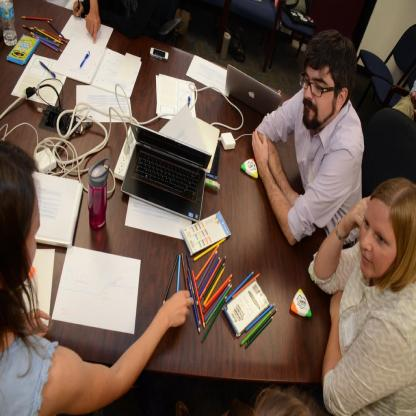board: (122, 114, 211, 233), (224, 64, 282, 116), (87, 160, 109, 228), (0, 0, 18, 46)
